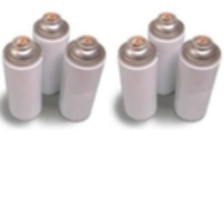aerosol_cans: (53, 35, 107, 123), (171, 31, 222, 124), (1, 32, 47, 125), (116, 32, 161, 122), (30, 9, 71, 98), (145, 10, 186, 98)
